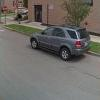Car: (21, 18, 89, 69)
